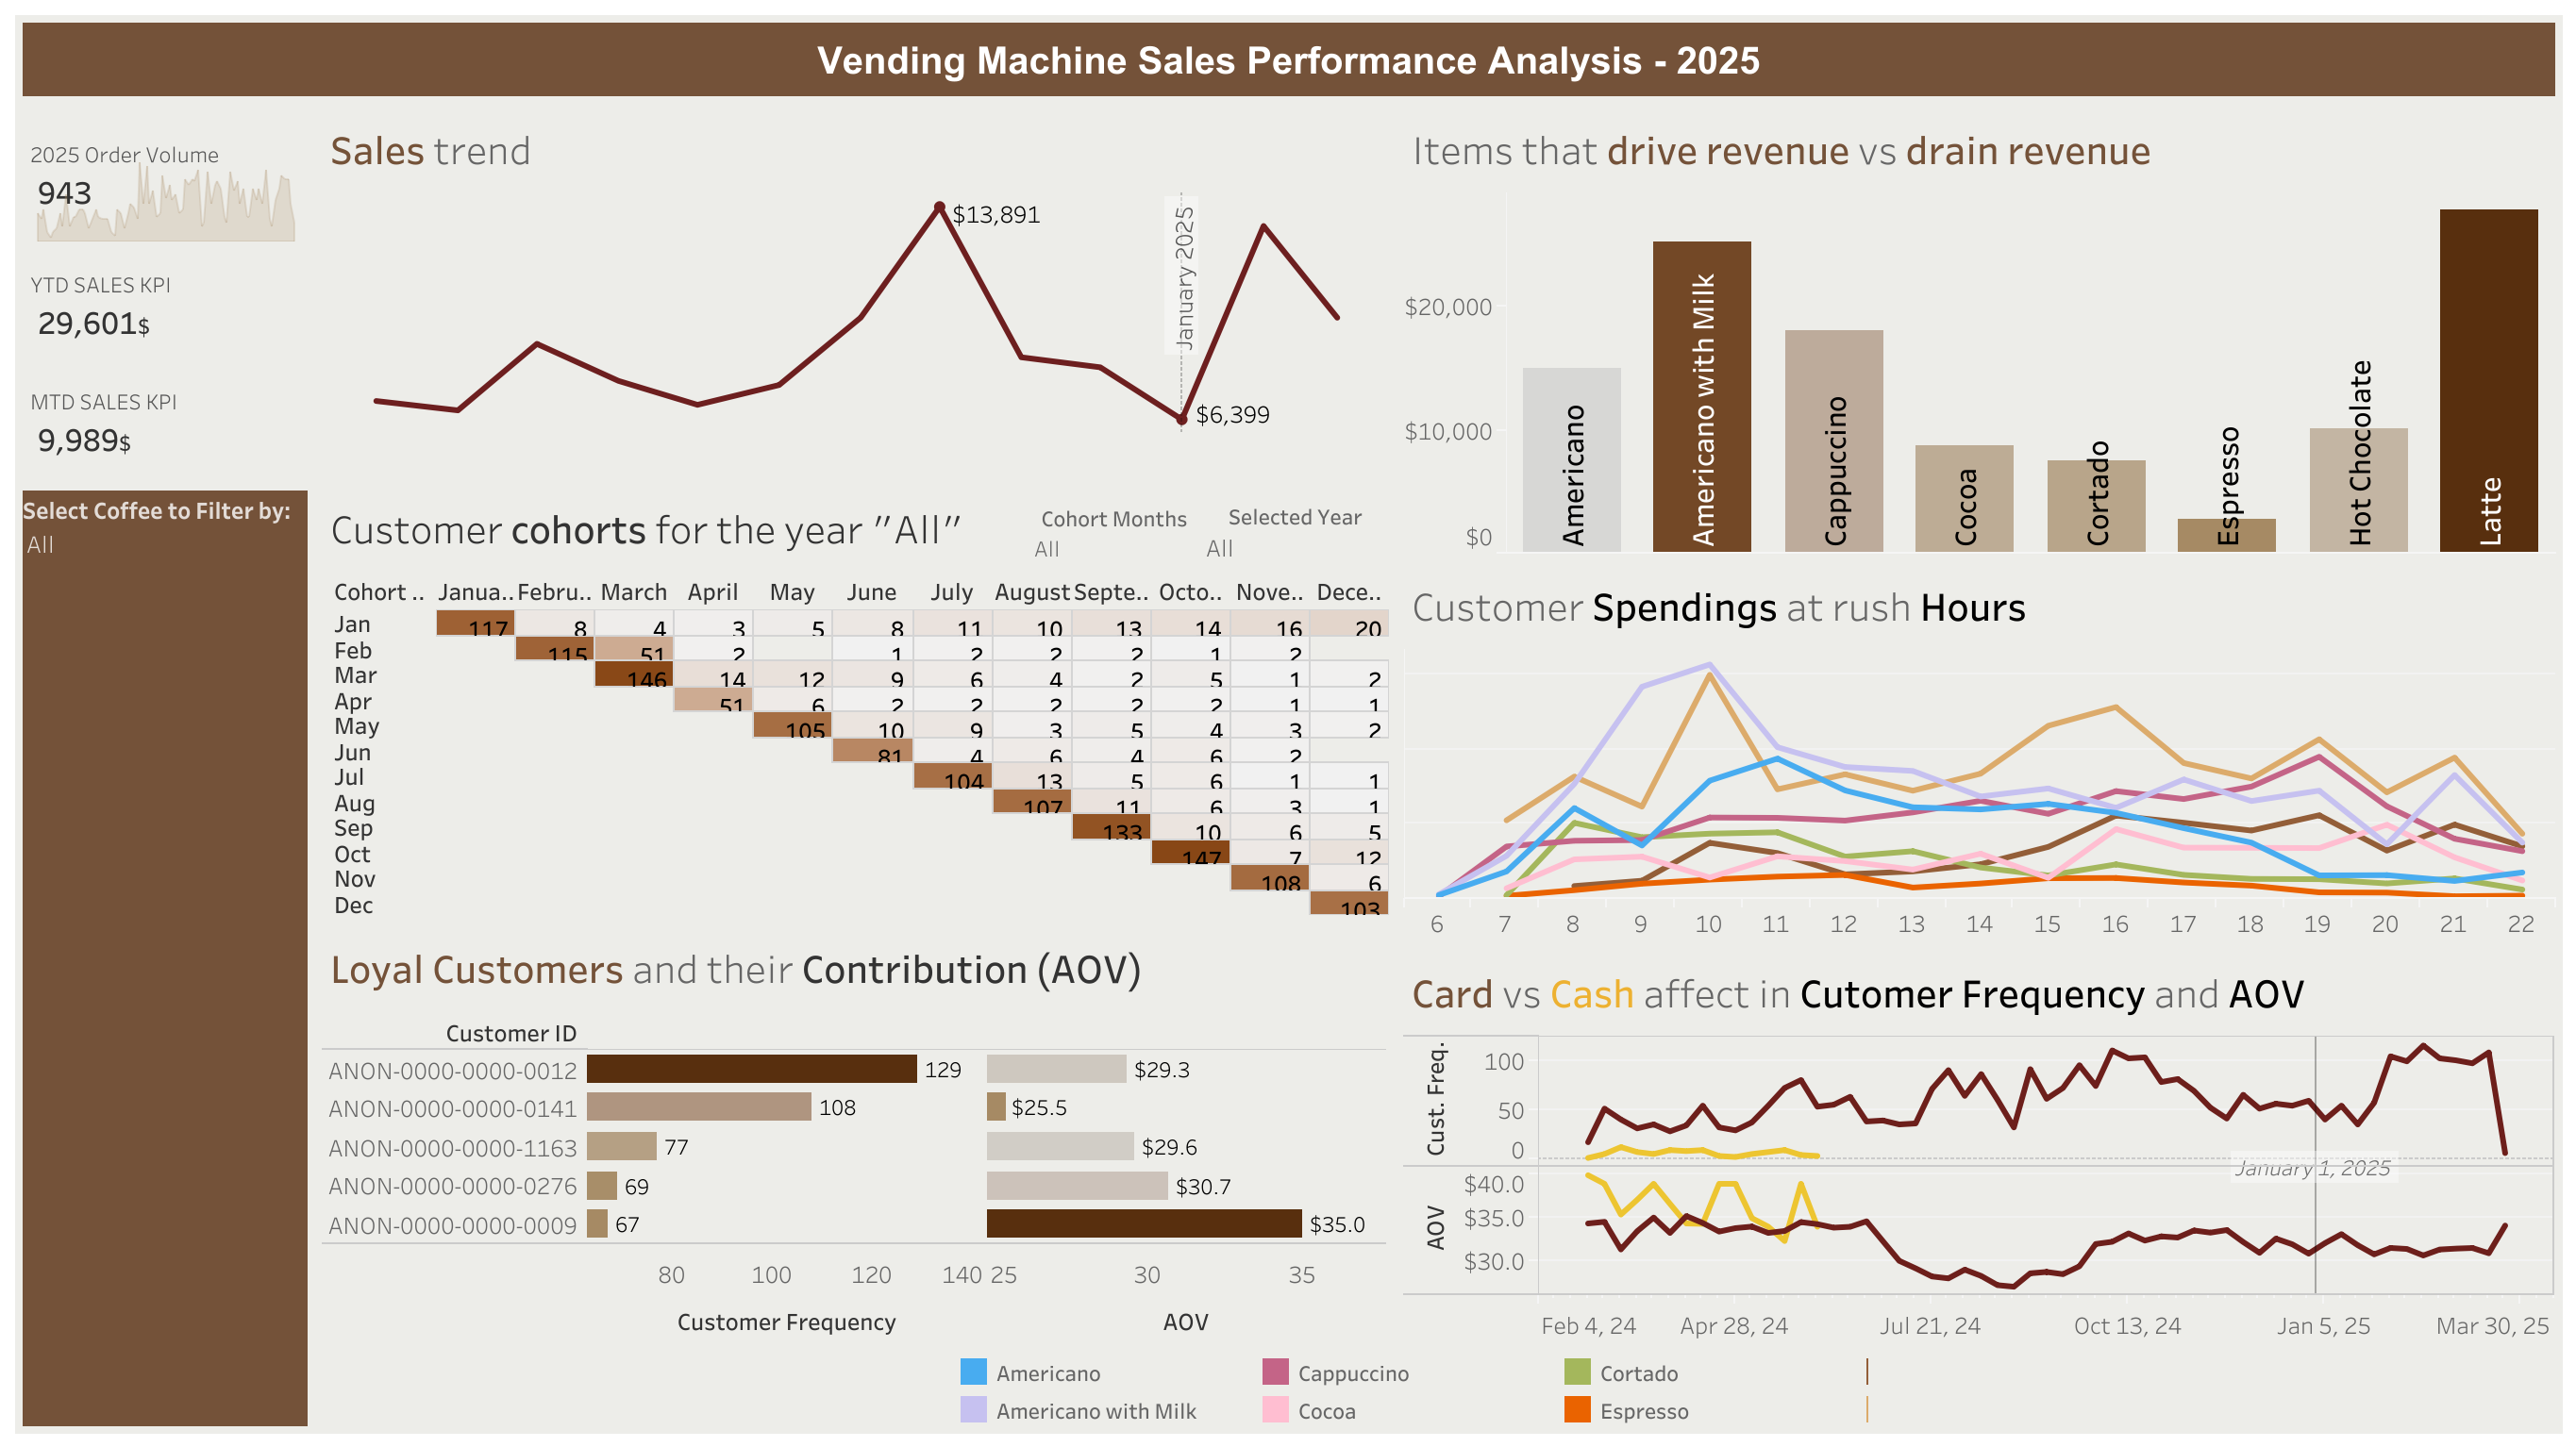

This screenshot's page, from the dashboard's own definition file:
{"tool":"tableau","page":{"name":"Dashboard 1","canvas":[1366,768],"ordinal":0},"visuals":[{"type":"text","box":[8,8,1350,47]},{"type":"worksheet","title":"volume","mark":"Automatic","box":[8,55,159,77]},{"type":"worksheet","title":"Sales trend","mark":"Automatic","rows":["money"],"cols":["datetime"],"box":[167,55,573,178]},{"type":"worksheet","title":"3.  items drive revenue vs which drain margin (menu engineering)","mark":"Automatic","rows":["money"],"cols":["coffee_name"],"box":[740,55,618,242]},{"type":"worksheet","title":"volume area graph","mark":"Area","rows":["Calculation_535013614999932930"],"cols":["datetime"],"box":[13,83,150,45]},{"type":"worksheet","title":"ytd","mark":"Automatic","box":[8,132,159,60]},{"type":"worksheet","title":"mtd","mark":"Automatic","box":[8,192,159,64]},{"type":"filter","title":"4. card vs cash","param":"[federated.1ek3l7h18vap4m19o23yx0unkdxy].[none:coffee_name:nk]","box":[8,256,159,504]},{"type":"worksheet","title":"cohort","mark":"Square","rows":["Calculation_535013615691935748"],"cols":["datetime"],"box":[167,256,573,232.9]},{"type":"filter","title":"cohort","param":"[federated.1ek3l7h18vap4m19o23yx0unkdxy].[yr:datetime:ok]","box":[637,265,99,71]},{"type":"filter","title":"cohort","param":"[federated.1ek3l7h18vap4m19o23yx0unkdxy].[none:Calculation_535013615691935748:ok","box":[546,266,89,85]},{"type":"worksheet","title":"3 promotion hours","mark":"Line","rows":["money"],"cols":["datetime"],"box":[740,297,618,204.8]},{"type":"worksheet","title":"2 repeat buyers and aov","mark":"Automatic","rows":["card"],"cols":["card","money"],"box":[167,489,573,232]},{"type":"worksheet","title":"4. card vs cash","mark":"Line","rows":["card","money"],"cols":["datetime"],"box":[740,501.8,618,219.1]}]}

Visuals, with their boxes in screenshot pixels (x1, y1, x2, y2), scaled from the page's 1366x768 canvas onto the 2576x1447 screenshot:
text: [15, 15, 2561, 104]
"volume" worksheet: [15, 104, 315, 249]
"Sales trend" worksheet: [315, 104, 1396, 439]
"3.  items drive revenue vs which drain margin (menu engineering)" worksheet: [1396, 104, 2561, 559]
"volume area graph" worksheet (Area marks): [25, 157, 308, 241]
"ytd" worksheet: [15, 249, 315, 362]
"mtd" worksheet: [15, 362, 315, 482]
"4. card vs cash" filter: [15, 482, 315, 1432]
"cohort" worksheet (Square marks): [315, 482, 1396, 922]
"cohort" filter: [1201, 499, 1388, 633]
"cohort" filter: [1029, 501, 1197, 661]
"3 promotion hours" worksheet (Line marks): [1396, 559, 2561, 945]
"2 repeat buyers and aov" worksheet: [315, 922, 1396, 1358]
"4. card vs cash" worksheet (Line marks): [1396, 945, 2561, 1358]
